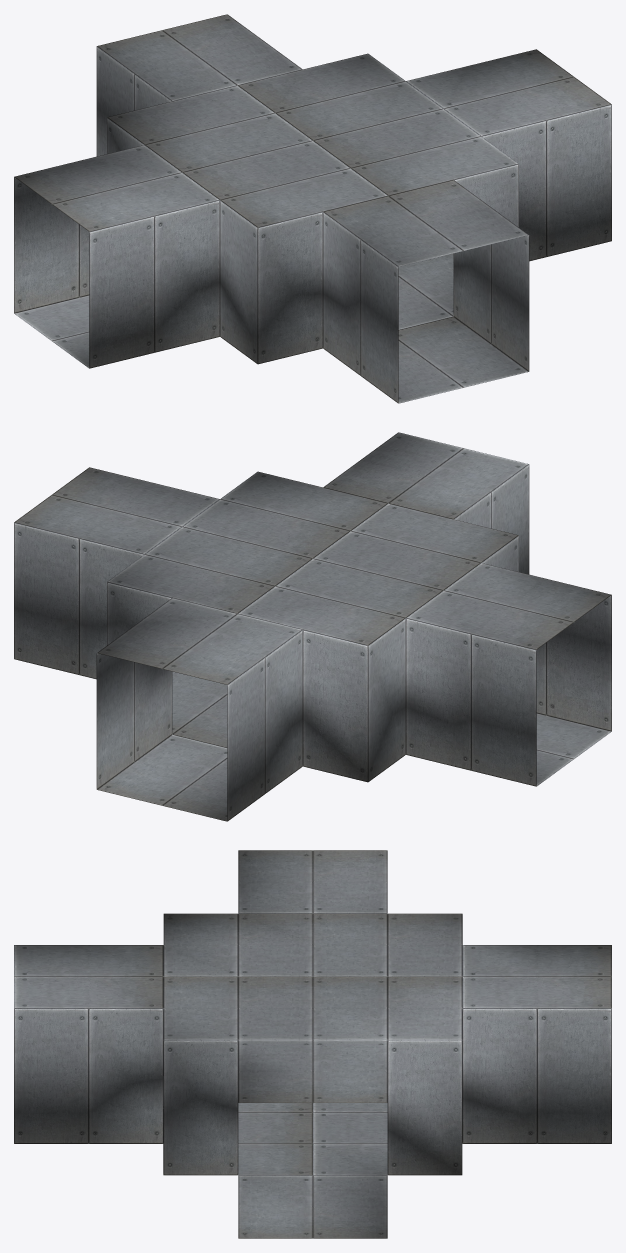
The model's file is 4-way.fbx.
3 renders of one model, top to bottom at view 1: azimuth 30°, elevation 25°; view 2: azimuth 150°, elevation 25°; view 3: azimuth 270°, elevation 25°, orthographic.
Parts seen in each view (by area): view 1: Plane; view 2: Plane; view 3: Plane.
Part boxes in pixels (left/top/right/bottom): Plane: left=14, top=14, right=611, bottom=403; Plane: left=14, top=432, right=611, bottom=821; Plane: left=14, top=850, right=611, bottom=1238.
Size of the model in its own units: 16 by 4 by 16.
